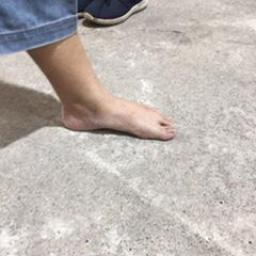Medial View -Left Foot-: (40, 63, 180, 159)
